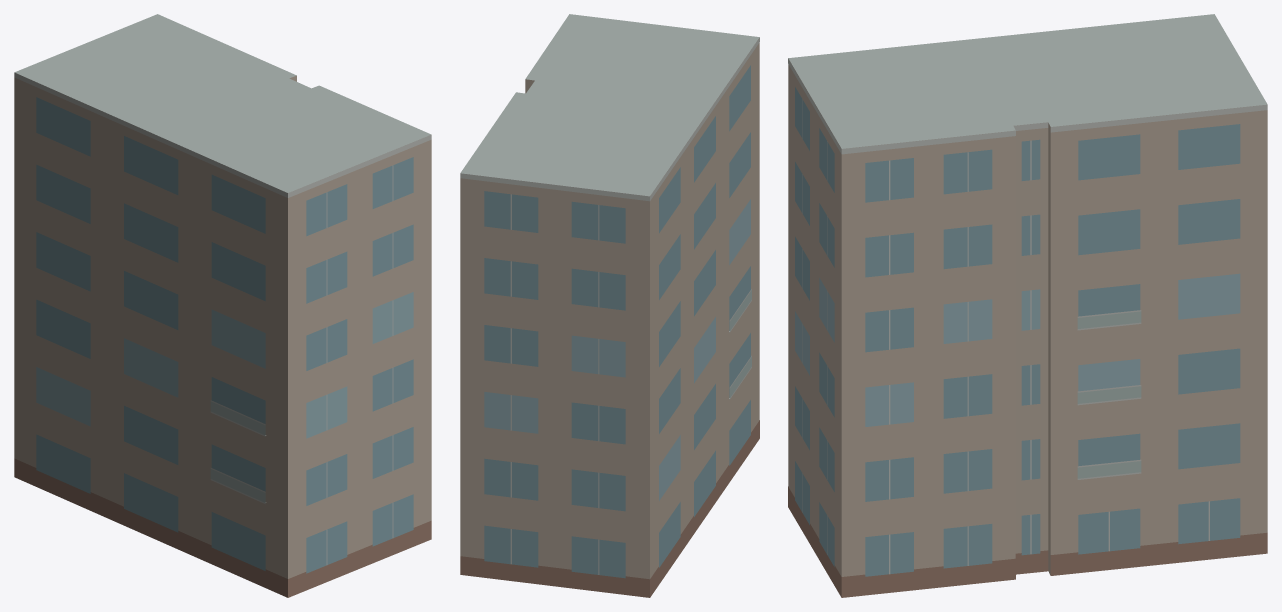
Rendered from survey-upis-32630683.glb.
3 renders of one model, left to right at view 1: azimuth 30°, elevation 25°; view 2: azimuth 150°, elevation 25°; view 3: azimuth 270°, elevation 25°, orthographic. The views are drawn at different scales.
Parts seen in each view (by area): view 1: survey-upis-32630683.tmp; view 2: survey-upis-32630683.tmp; view 3: survey-upis-32630683.tmp.
Part boxes in pixels (x1,y1,x2,y2): survey-upis-32630683.tmp: (14, 14, 431, 597); survey-upis-32630683.tmp: (460, 14, 759, 597); survey-upis-32630683.tmp: (788, 14, 1267, 597).
Size of the model in its own units: 12.84 by 19.9 by 19.28.
